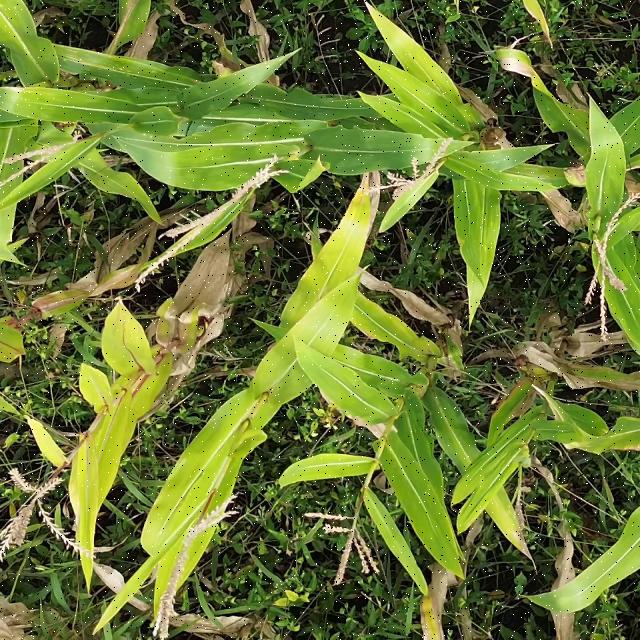northern-leaf-blight: (545, 348, 640, 470)
southern-leaf-blight: (444, 158, 540, 288), (65, 46, 207, 111)
